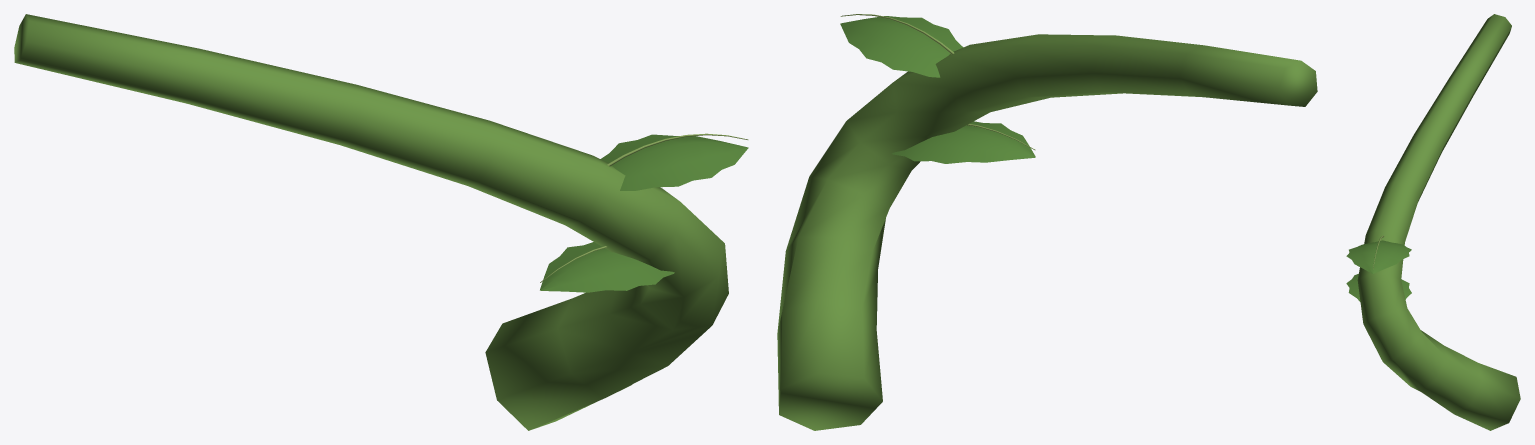
The model's file is sunflower-test-sprout-1.glb.
3 views of the same model, side by side, from view 1: azimuth 30°, elevation 25°; view 2: azimuth 150°, elevation 25°; view 3: azimuth 270°, elevation 25° (orthographic). The views are drawn at different scales.
Visible parts, largest first — view 1: Curved tapered stem; view 2: Curved tapered stem; view 3: Curved tapered stem.
Part boxes in pixels (left/top/right/bottom): Curved tapered stem: left=14, top=14, right=748, bottom=430; Curved tapered stem: left=777, top=14, right=1317, bottom=430; Curved tapered stem: left=1346, top=14, right=1520, bottom=430.
Bounding box in the file's own units: 0.111 × 0.0901 × 0.0508.
